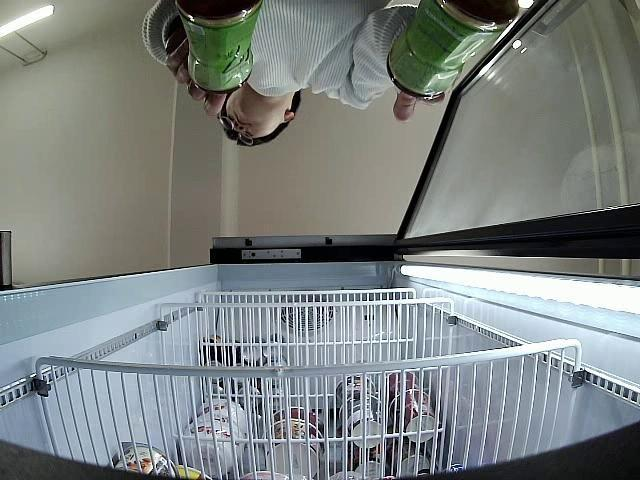19_17cha: (386, 0, 519, 102), (174, 0, 263, 93)
